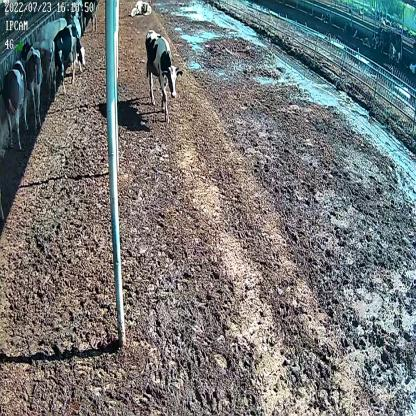cow: (145, 27, 183, 118), (2, 58, 30, 153), (21, 41, 42, 128), (131, 1, 152, 19)
